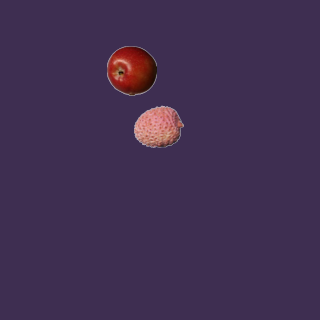Apple Braeburn: (106, 45, 156, 95)
Lychee: (133, 101, 183, 151)
